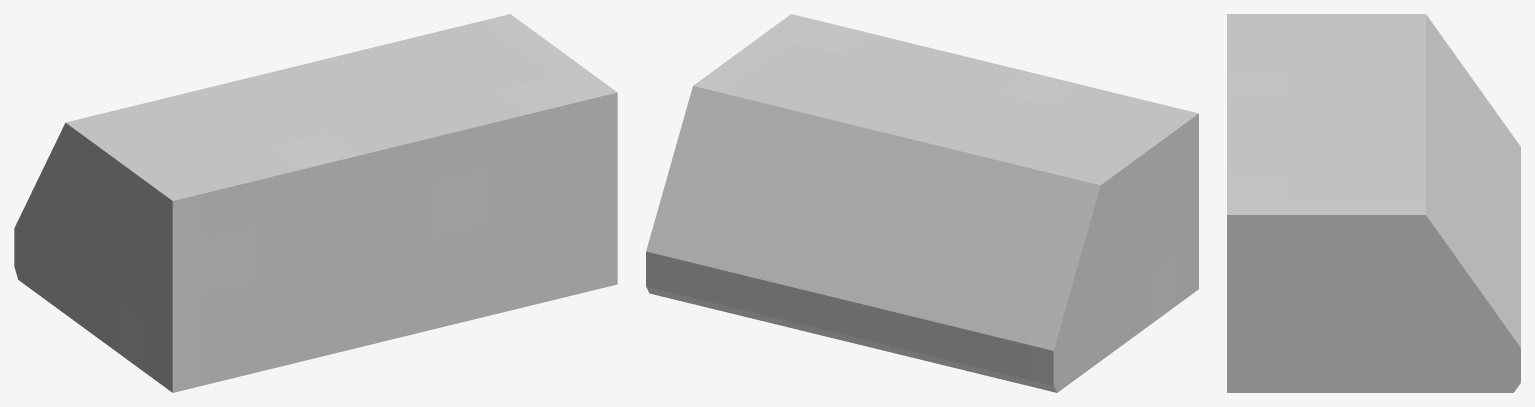
File: KitchenExhaust05.glb
3 renders of one model, left to right at view 1: azimuth 30°, elevation 25°; view 2: azimuth 150°, elevation 25°; view 3: azimuth 270°, elevation 25°, orthographic. The views are drawn at different scales.
Visible parts, largest first — view 1: KitchenExhaust05_model; view 2: KitchenExhaust05_model; view 3: KitchenExhaust05_model.
Boxes of the visible parts, x1,y1,x2,y2 form: KitchenExhaust05_model: [14, 14, 617, 392]; KitchenExhaust05_model: [646, 14, 1198, 392]; KitchenExhaust05_model: [1227, 14, 1520, 392].
Bounding box in the file's own units: 1.46 × 0.6034 × 0.9031.
Materials: 1 (1 with a texture image).
